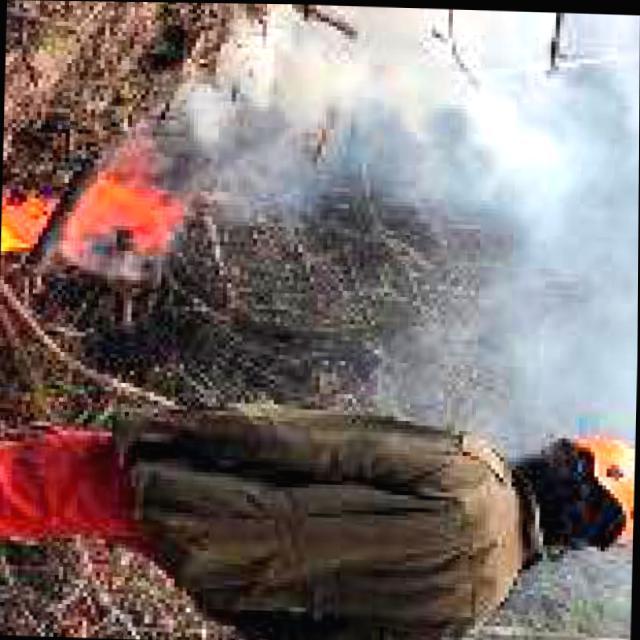smoke: (153, 2, 640, 235)
